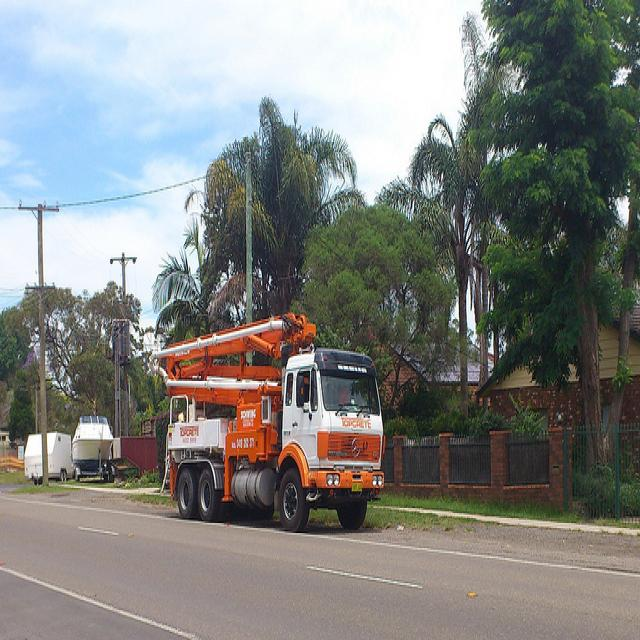Vehicle: (147, 314, 386, 533)
